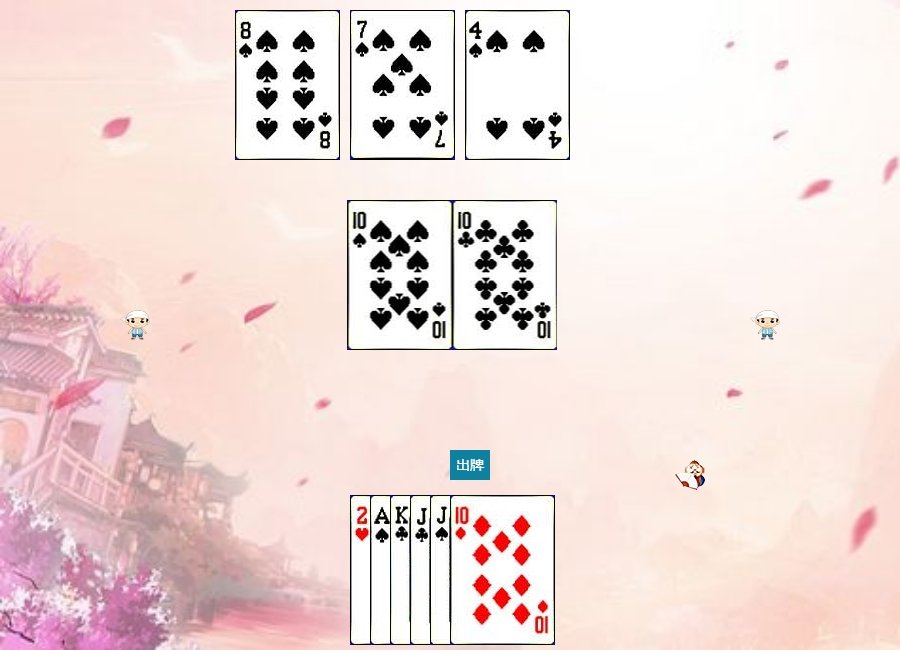10~1: (450, 495, 555, 645)
10~2: (453, 200, 558, 350)
10~4: (348, 200, 453, 350)
11~2: (410, 495, 515, 645)
11~4: (430, 495, 535, 645)
13~2: (390, 495, 495, 645)
14~4: (370, 495, 475, 645)
15~3: (350, 495, 455, 645)
4~4: (465, 10, 570, 160)
7~4: (350, 10, 455, 160)
8~4: (235, 10, 340, 160)
